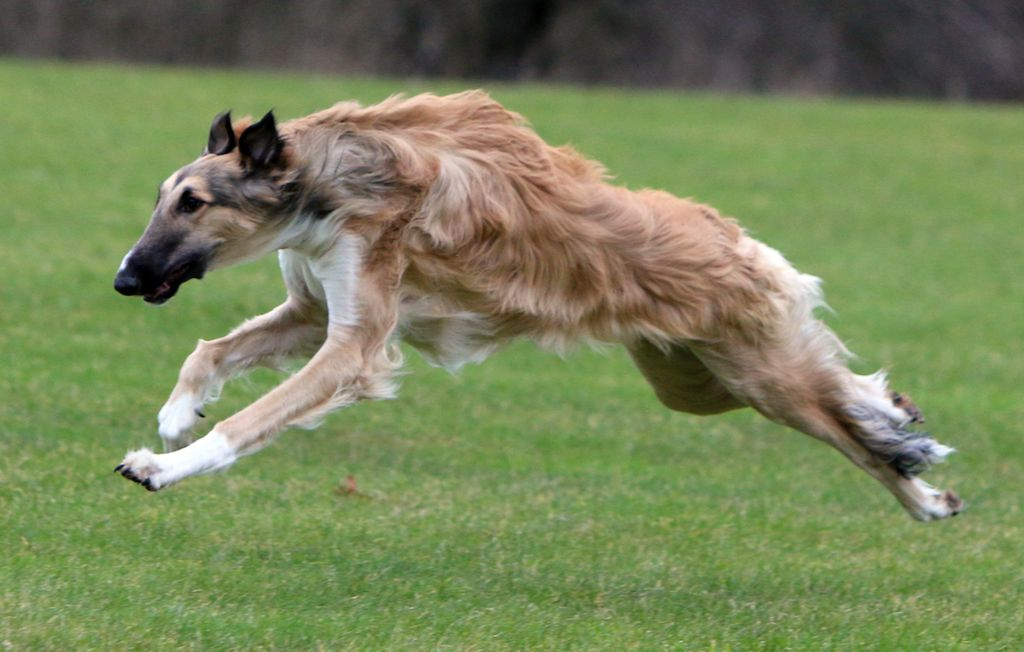borzoi: (108, 60, 976, 536)
